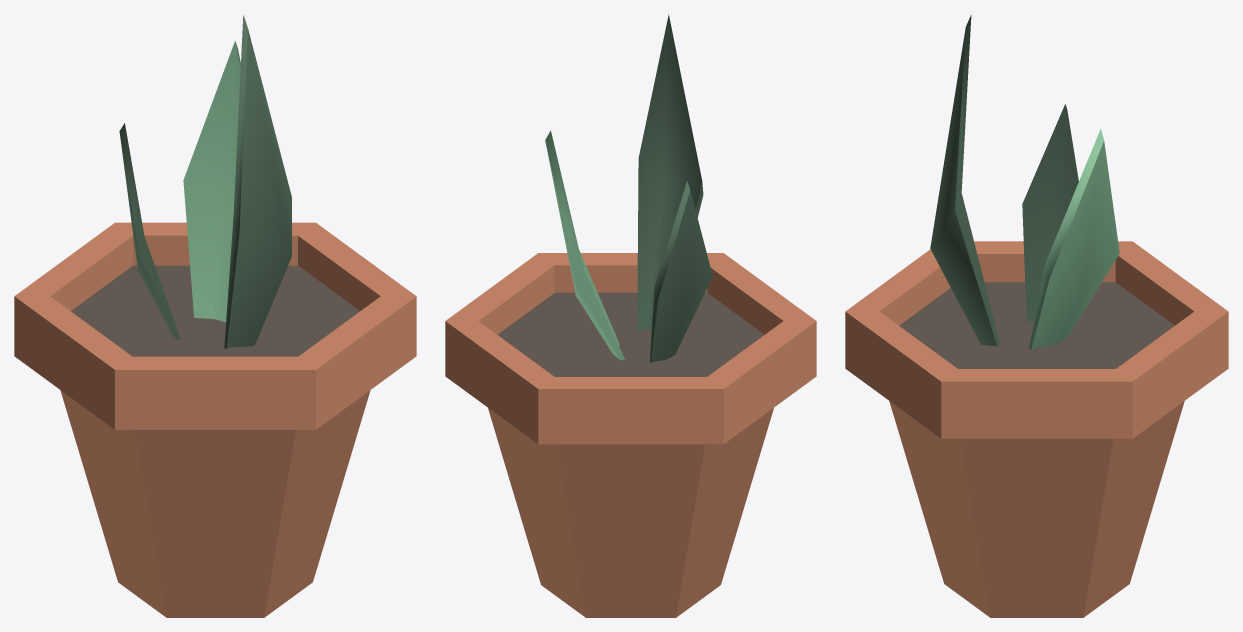
Rendered from flowerpot-ver2.glb.
The picture shows the model from 3 angles, left to right: view 1: azimuth 30°, elevation 25°; view 2: azimuth 150°, elevation 25°; view 3: azimuth 270°, elevation 25°; orthographic projection. The views are drawn at different scales.
Visible parts, largest first — view 1: flowerpot-ver2; view 2: flowerpot-ver2; view 3: flowerpot-ver2.
Part boxes in pixels (x1,y1,x2,y2): flowerpot-ver2: (14, 15, 416, 617); flowerpot-ver2: (445, 14, 816, 617); flowerpot-ver2: (845, 15, 1228, 617).
Bounding box in the file's own units: 0.2826 × 0.5328 × 0.3264.
1 material, 1 textured.
